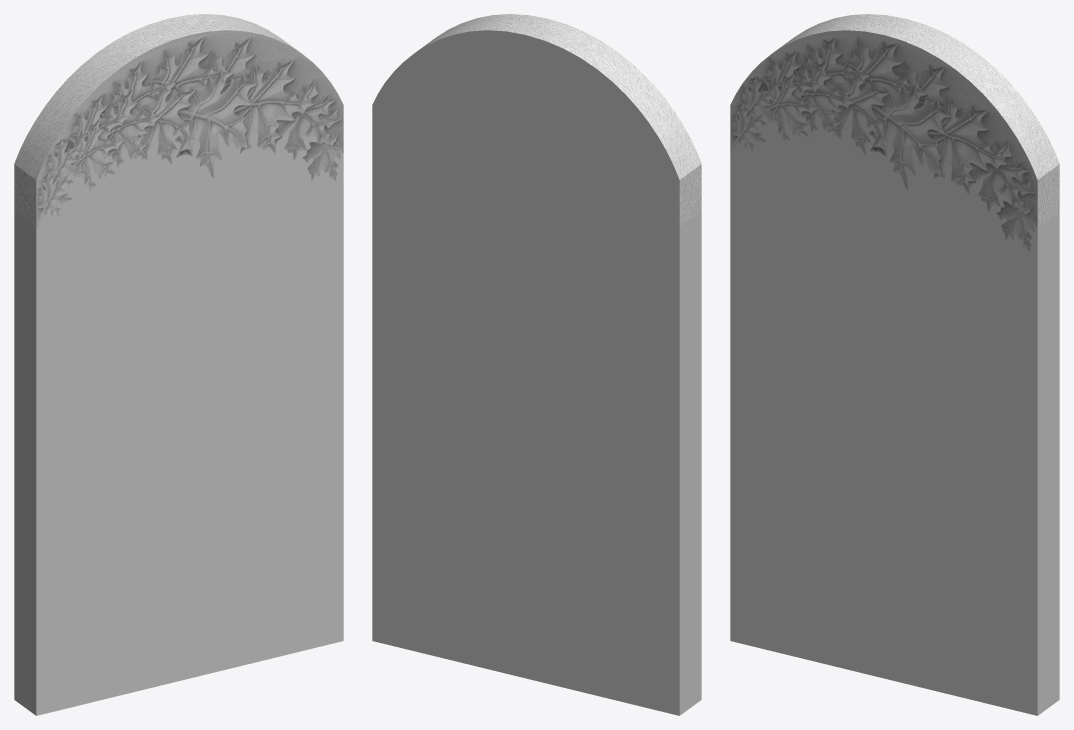
Rendered from cnd0f30ba968_tkf.glb.
3 views of the same model, side by side, from view 1: azimuth 30°, elevation 25°; view 2: azimuth 150°, elevation 25°; view 3: azimuth 330°, elevation 25° (orthographic).
Visible parts, largest first — view 1: Pam-d02-042, Pam-d02-042_2_notexture; view 2: Pam-d02-042, Pam-d02-042_2_notexture; view 3: Pam-d02-042, Pam-d02-042_2_notexture.
Boxes of the visible parts, left/top/right/bottom form: Pam-d02-042: left=14, top=130, right=343, bottom=715; Pam-d02-042_2_notexture: left=14, top=14, right=343, bottom=227; Pam-d02-042: left=372, top=30, right=701, bottom=715; Pam-d02-042_2_notexture: left=417, top=14, right=701, bottom=226; Pam-d02-042: left=730, top=116, right=1059, bottom=715; Pam-d02-042_2_notexture: left=730, top=14, right=1059, bottom=251.
Size of the model in its own units: 0.4 by 0.8 by 0.05.
Materials: 1 (1 with a texture image).
